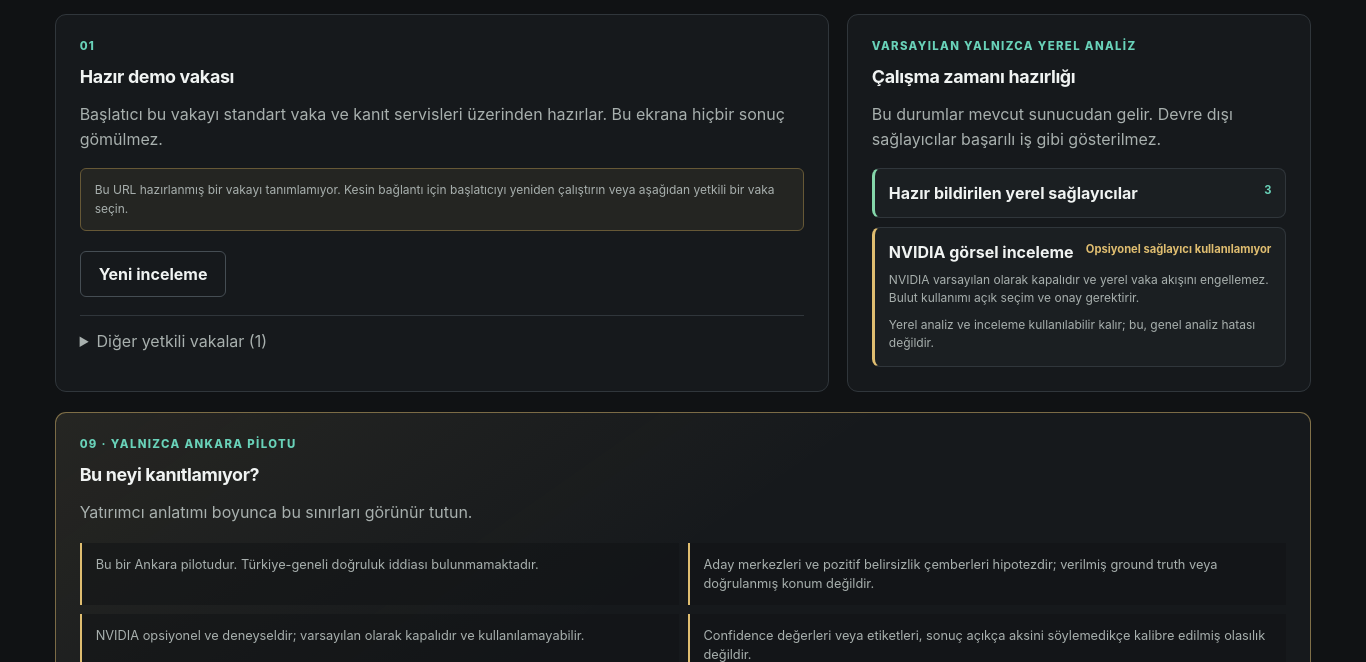
Scenario: Phase 3D guided investor demo › keeps a missing caseId on a warned landing until explicit authorized-case selection
(page scrolled)
Expected: the message with test id "investor-route-notice" shows "hazırlanmış bir vakayı tanımlamıyor", [95,182,774,216]
Step 1. Click the heading "Diğer yetkili vakalar (1)" → [182, 341], box [97,331,267,351]
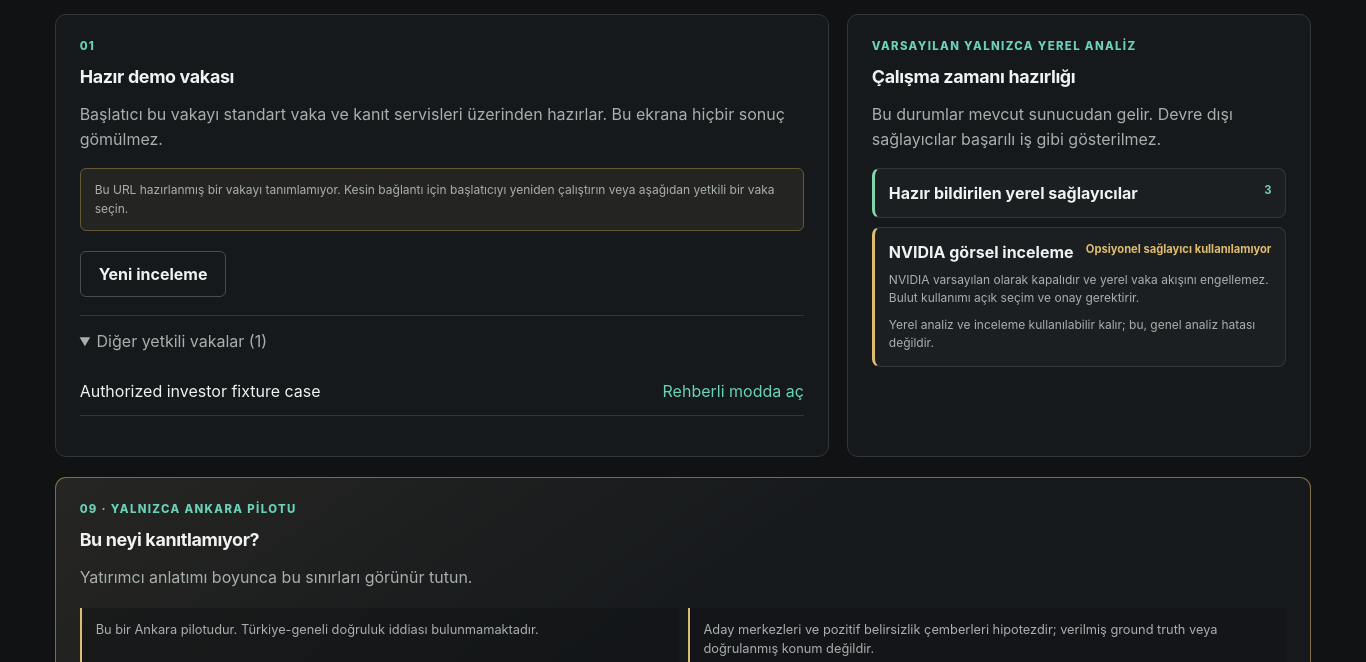
Step 2. Click the button with test id "investor-authorized-case-open" → [733, 391], box [662,377,804,405]
(page scrolled)
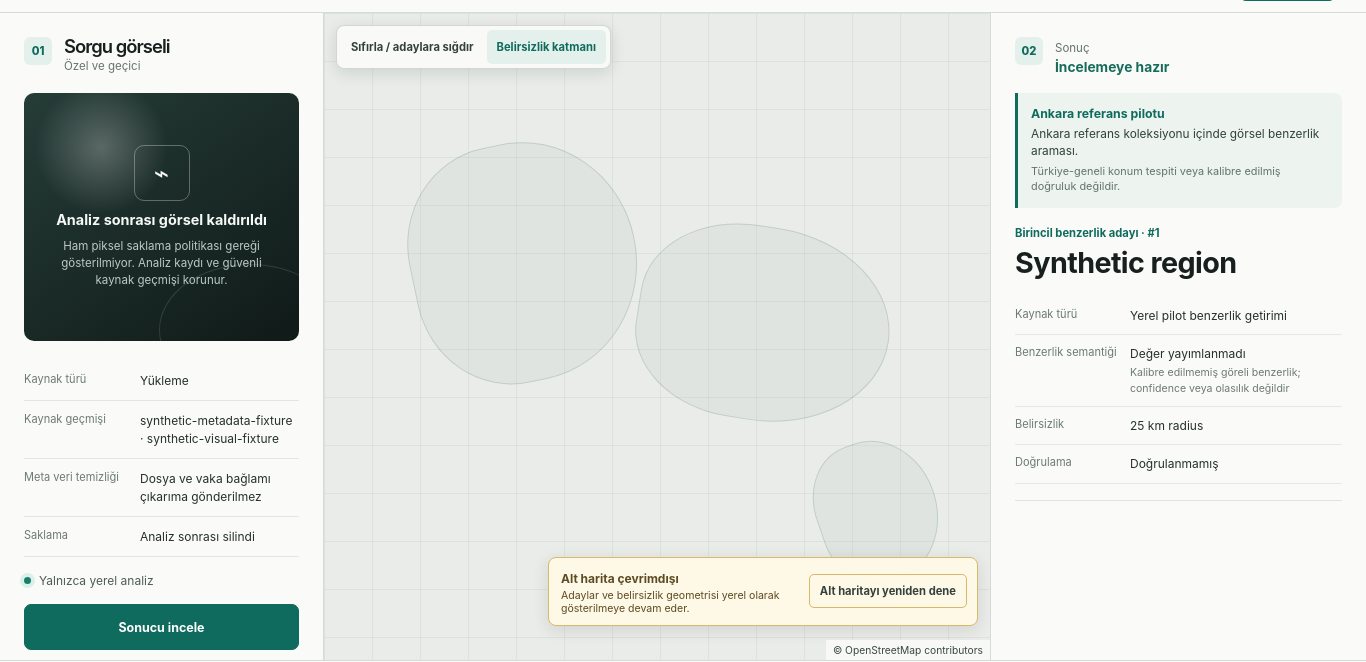
Now the heading "Sorgu görseli" is shown, box [64,37,170,55]
